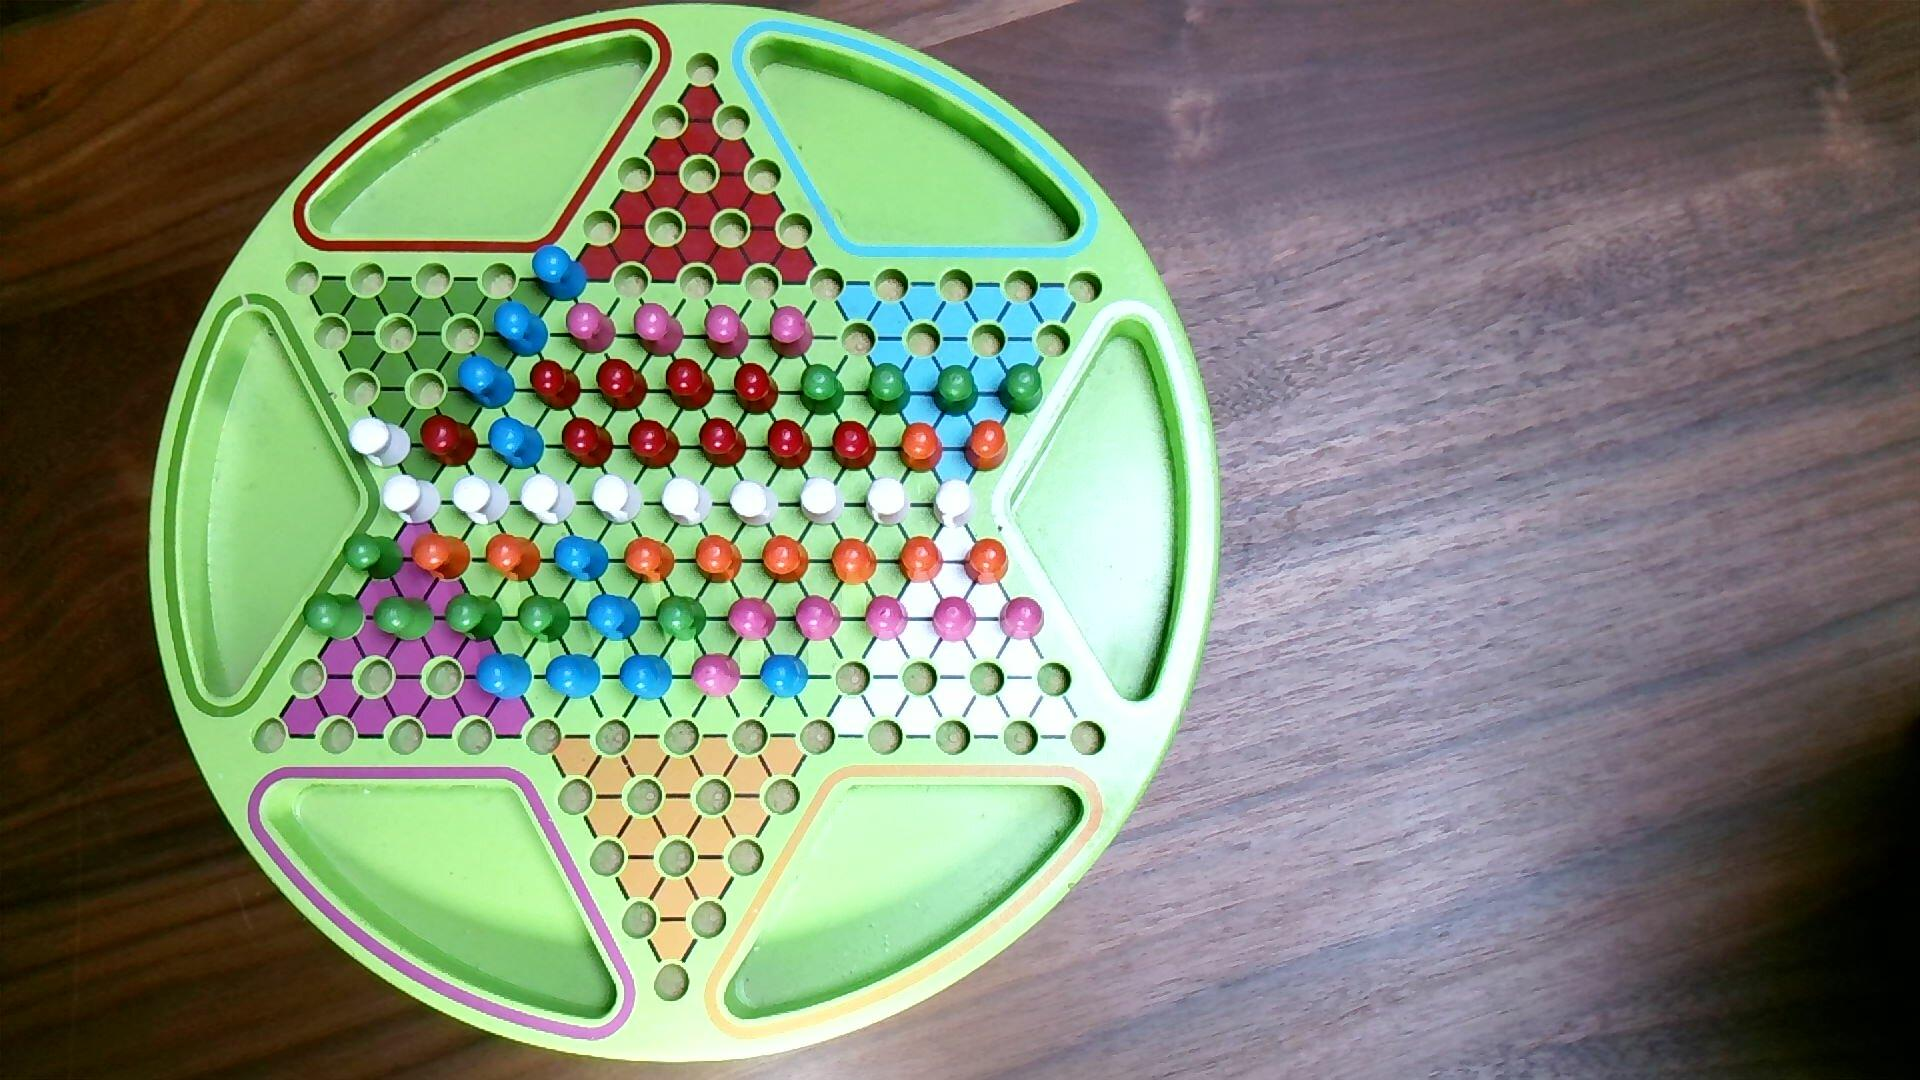B: (531, 243, 589, 303), (487, 415, 547, 471), (458, 356, 518, 411), (493, 302, 550, 359), (475, 651, 535, 702), (585, 593, 644, 644), (545, 653, 604, 702), (553, 535, 611, 584), (618, 653, 674, 702), (760, 653, 810, 700)
G: (302, 592, 367, 644), (342, 533, 407, 582), (444, 592, 505, 645), (373, 595, 436, 644), (517, 593, 572, 646), (655, 593, 709, 644), (931, 365, 981, 419), (864, 363, 913, 417), (799, 363, 847, 417), (997, 363, 1044, 417)
O: (411, 533, 473, 584), (484, 531, 543, 584), (897, 419, 945, 476), (694, 533, 745, 585), (622, 535, 676, 585), (761, 534, 812, 585), (963, 419, 1011, 473), (829, 537, 880, 587), (963, 535, 1011, 587), (897, 535, 945, 585)
R: (419, 414, 480, 469), (593, 357, 650, 413), (529, 359, 583, 413), (560, 417, 616, 469), (665, 357, 717, 413), (698, 415, 749, 471), (628, 419, 683, 471), (831, 419, 880, 473), (766, 419, 814, 472), (733, 363, 781, 415)
R2: (633, 302, 686, 359), (566, 302, 618, 355), (703, 305, 752, 361), (767, 305, 816, 361), (793, 595, 843, 644), (691, 653, 742, 700), (727, 597, 778, 644), (931, 596, 978, 645), (864, 593, 910, 644), (1000, 595, 1046, 642)
W: (348, 417, 414, 469), (380, 473, 443, 526), (451, 473, 512, 527), (520, 473, 578, 527), (591, 473, 647, 527), (659, 476, 715, 530), (729, 479, 781, 529), (931, 477, 978, 531), (864, 477, 913, 529), (799, 477, 847, 527)
